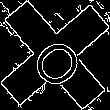O_NE: (21, 22, 89, 88)
